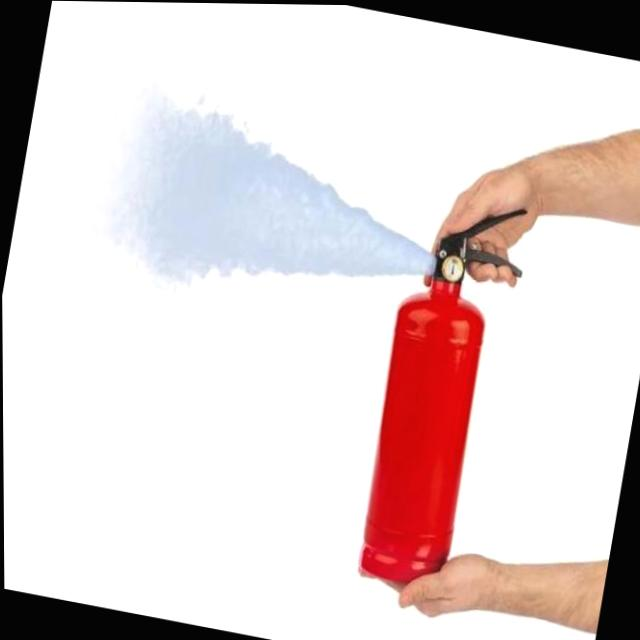FireExtinguisher: (340, 174, 539, 604)
